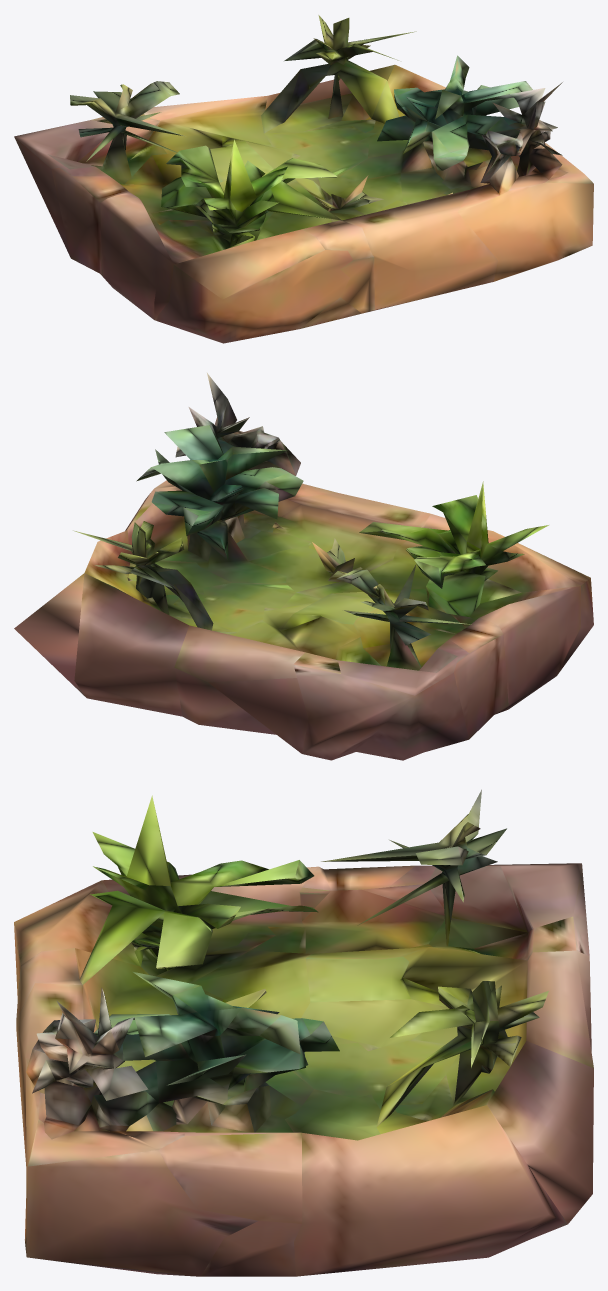
Rendered from garden_bed.glb.
3 renders of one model, top to bottom at view 1: azimuth 30°, elevation 25°; view 2: azimuth 150°, elevation 25°; view 3: azimuth 270°, elevation 25°, orthographic. The views are drawn at different scales.
Parts seen in each view (by area): view 1: tripo_node_329805ef-9071-4756-8ce6-671aa8ad2836; view 2: tripo_node_329805ef-9071-4756-8ce6-671aa8ad2836; view 3: tripo_node_329805ef-9071-4756-8ce6-671aa8ad2836.
Boxes of the visible parts, <box> form: tripo_node_329805ef-9071-4756-8ce6-671aa8ad2836: <box>14,15,593,343</box>; tripo_node_329805ef-9071-4756-8ce6-671aa8ad2836: <box>14,373,593,760</box>; tripo_node_329805ef-9071-4756-8ce6-671aa8ad2836: <box>14,789,593,1276</box>.
Size of the model in its own units: 0.9531 by 0.3979 by 0.7898.
Materials: 1 (1 with a texture image).
